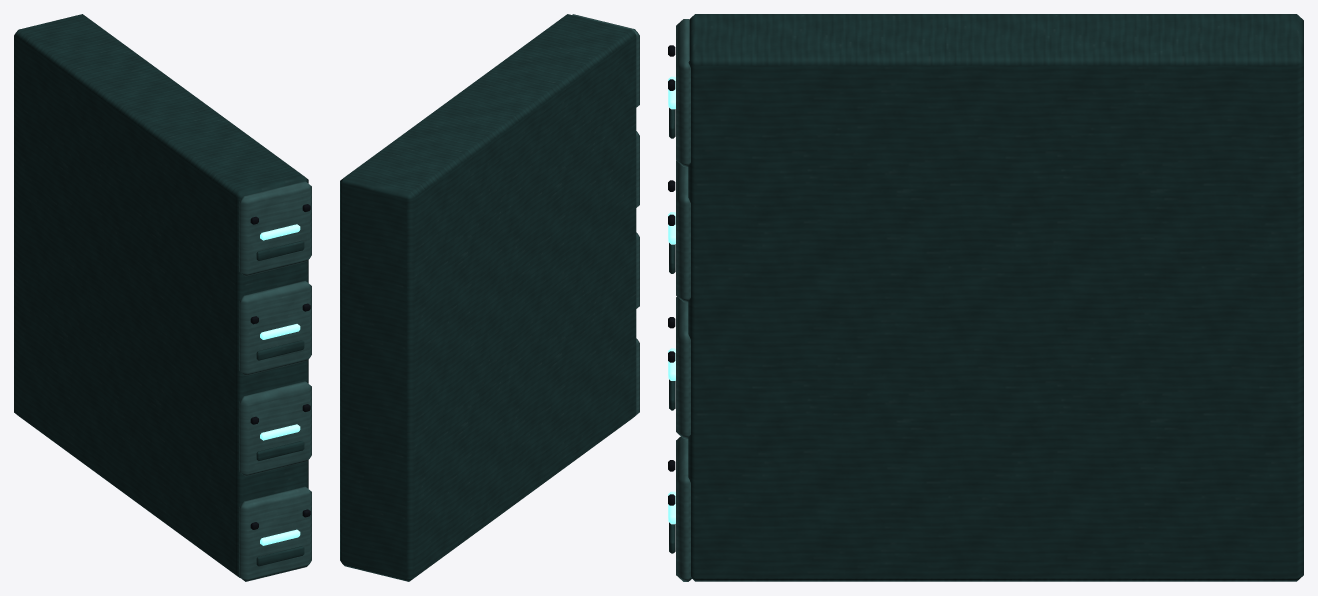
The model's file is abyssal_plant_wall.glb.
3 renders of one model, left to right at view 1: azimuth 30°, elevation 25°; view 2: azimuth 150°, elevation 25°; view 3: azimuth 270°, elevation 25°, orthographic. The views are drawn at different scales.
Visible parts, largest first — view 1: abyssal_plant_wall - abyssal_plant panels, abyssal_plant_wall - abyssal_plant trim, abyssal_plant_wall - abyssal_plant accents, abyssal_plant_wall - Recessed iron; view 2: abyssal_plant_wall - abyssal_plant panels, abyssal_plant_wall - abyssal_plant trim; view 3: abyssal_plant_wall - abyssal_plant panels, abyssal_plant_wall - abyssal_plant trim.
Part boxes in pixels (<box>): abyssal_plant_wall - abyssal_plant panels: <box>14,14,308,577</box>; abyssal_plant_wall - abyssal_plant trim: <box>239,181,311,581</box>; abyssal_plant_wall - abyssal_plant accents: <box>260,224,300,545</box>; abyssal_plant_wall - Recessed iron: <box>250,204,310,529</box>; abyssal_plant_wall - abyssal_plant panels: <box>340,14,636,581</box>; abyssal_plant_wall - abyssal_plant trim: <box>572,14,639,414</box>; abyssal_plant_wall - abyssal_plant panels: <box>669,14,1303,581</box>; abyssal_plant_wall - abyssal_plant trim: <box>676,19,691,581</box>.
Size of the model in its own units: 0.79 by 4.01 by 4.39.
Materials: 4 (3 with a texture image).
